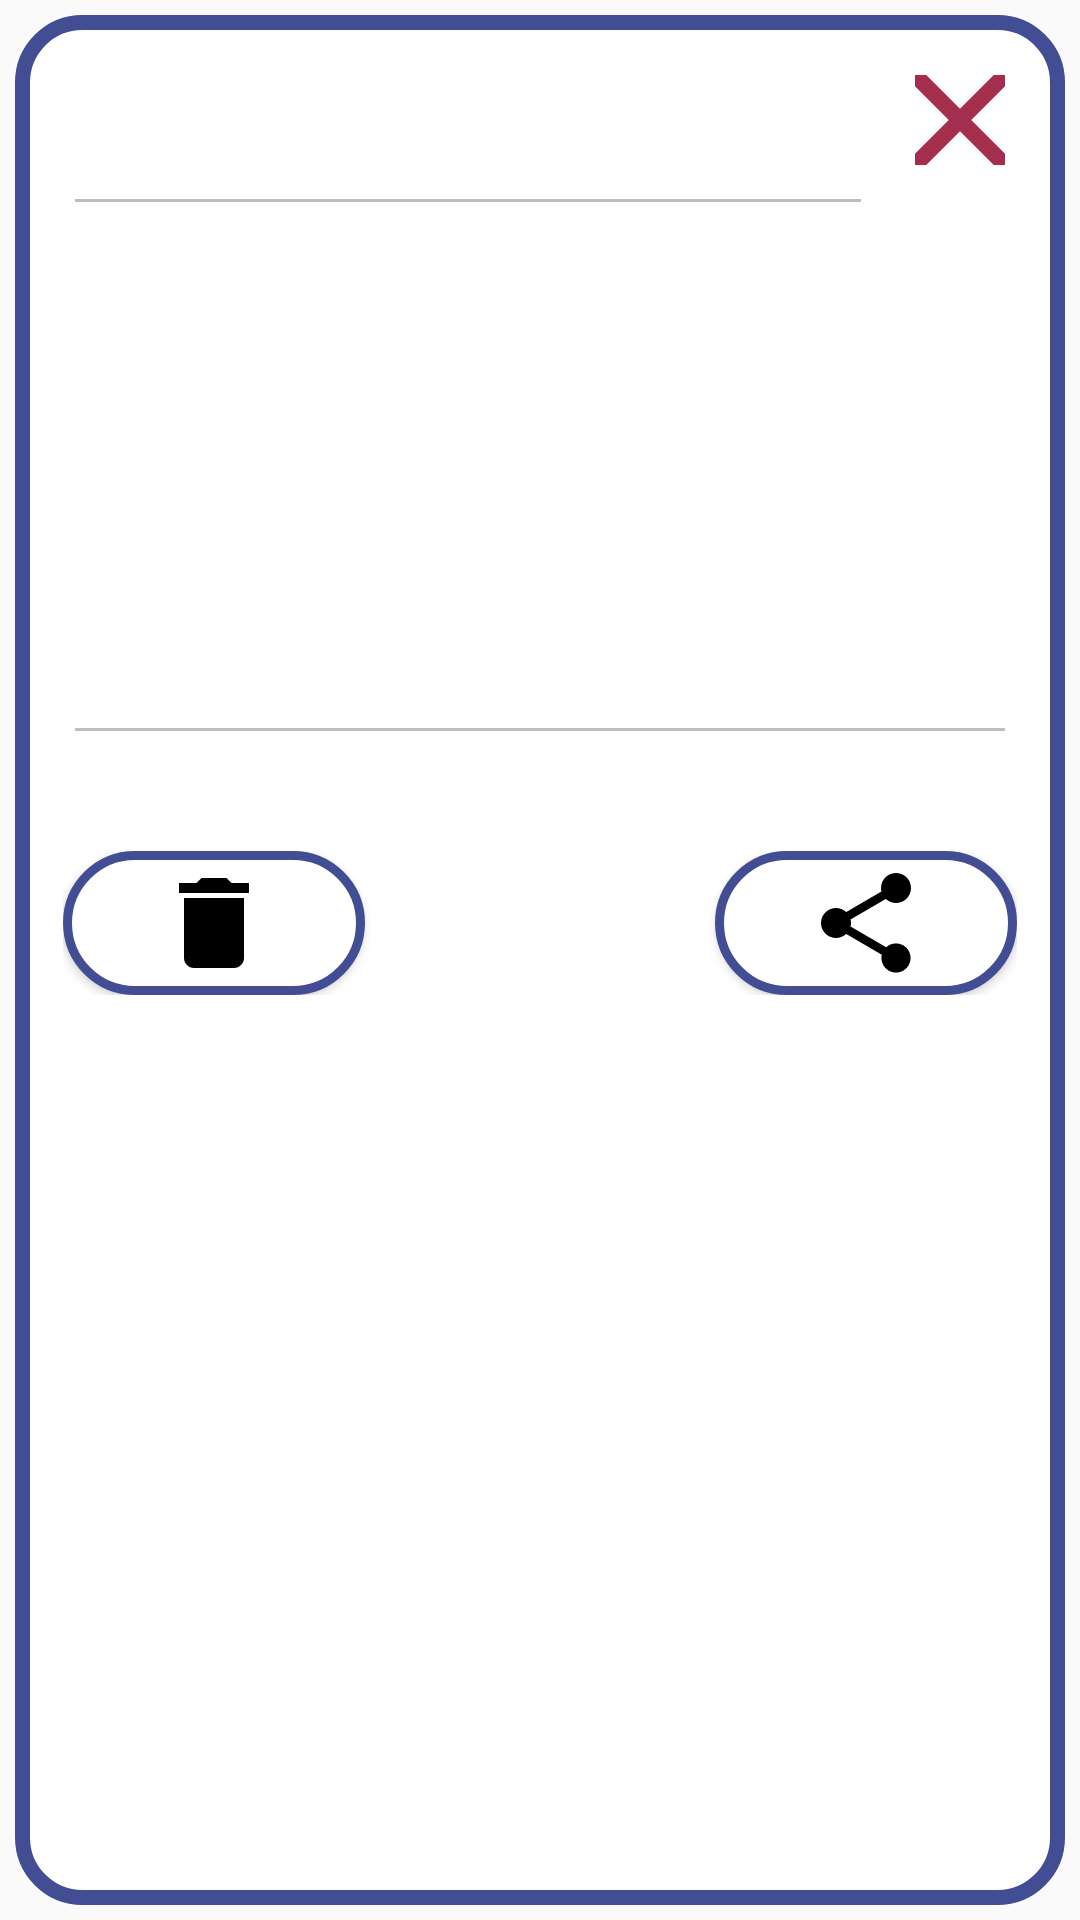

Named icons in this screenshot (1080 x 1920) and their centers, [x,y]:
close: [960,120]
